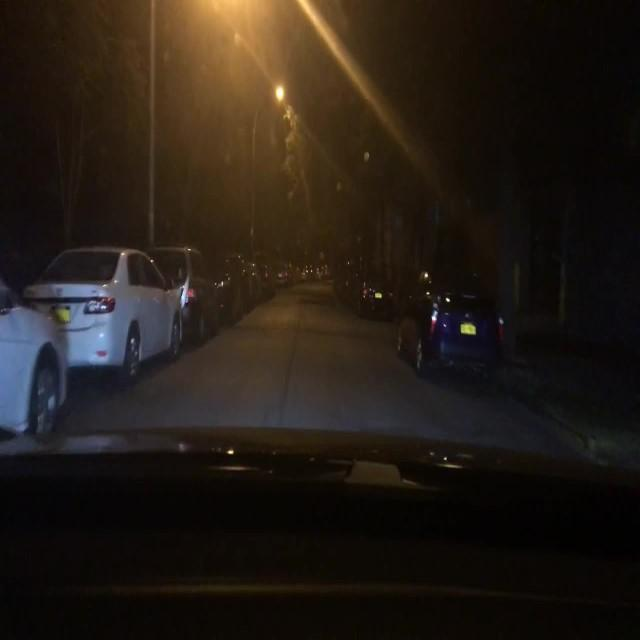normal: (21, 247, 196, 384), (428, 289, 506, 379)
